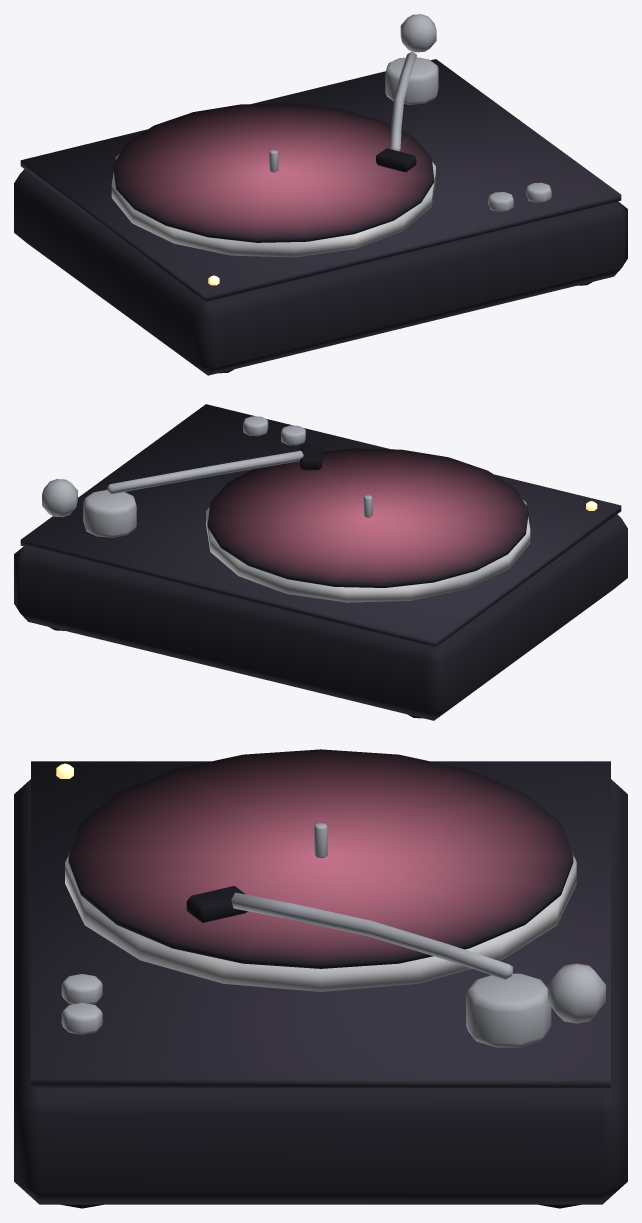
File: turntable.glb
3 views of the same model, one above another, from view 1: azimuth 30°, elevation 25°; view 2: azimuth 150°, elevation 25°; view 3: azimuth 270°, elevation 25° (orthographic). The views are drawn at different scales.
Parts seen in each view (by area): view 1: turntable, platter; view 2: turntable, platter; view 3: turntable, platter.
Boxes of the visible parts, left/top/right/bottom form: turntable: left=14, top=14, right=627, bottom=375; platter: left=111, top=103, right=435, bottom=257; turntable: left=14, top=404, right=627, bottom=720; platter: left=206, top=448, right=530, bottom=602; turntable: left=14, top=761, right=627, bottom=1208; platter: left=65, top=749, right=576, bottom=991.
Bounding box in the file's own units: 0.46 × 0.149 × 0.36.
